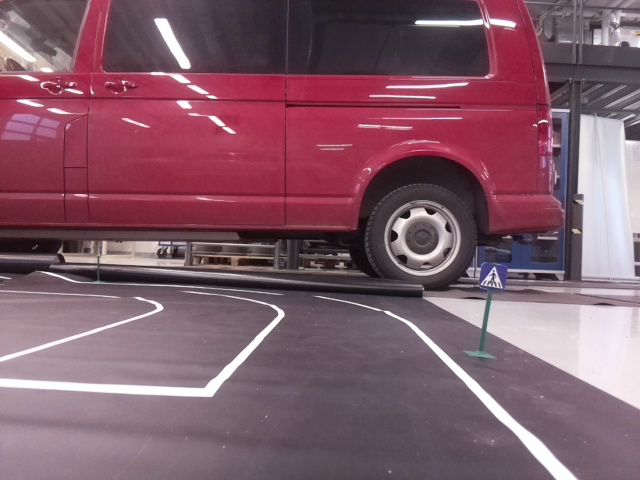Crosswalk: (480, 262, 503, 289)
